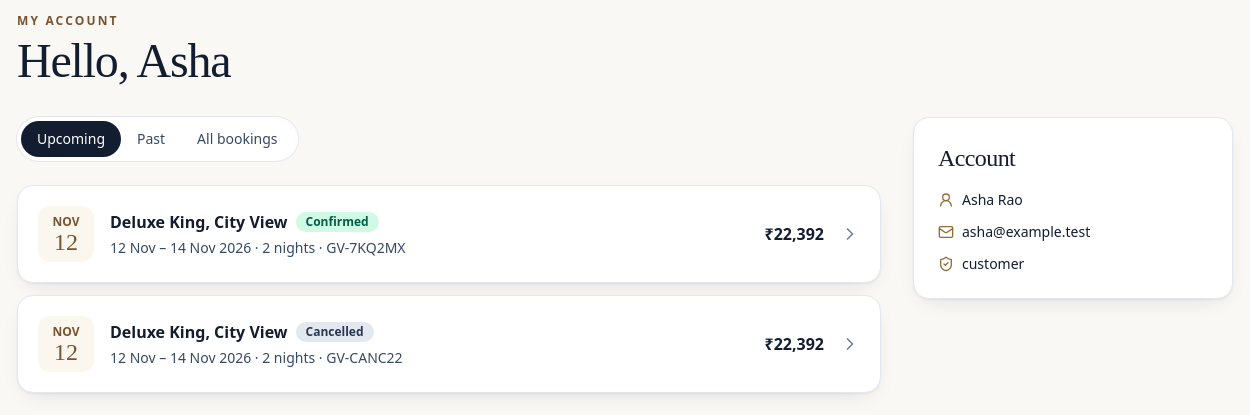
Test: customer booking history › shows upcoming bookings with their real statuses, and switches scope
Expected: the text "Confirmed" is shown, x1=296 y1=212 x2=379 y2=232
Expected: the text "Cancelled" is shown, x1=296 y1=322 x2=374 y2=342
Click the tab "Past": (151, 139) x1=121 y1=121 x2=181 y2=157
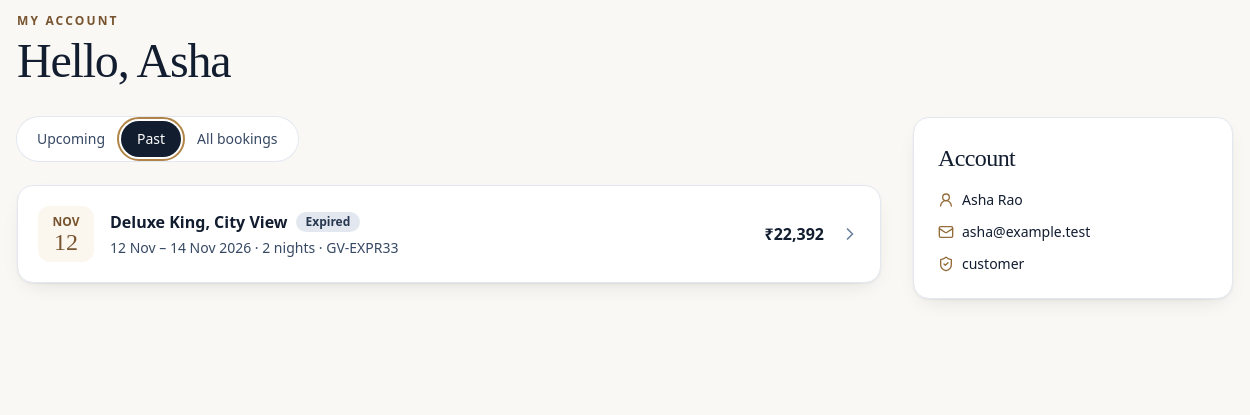
Expected: the text "Expired" is shown, x1=296 y1=212 x2=360 y2=232
